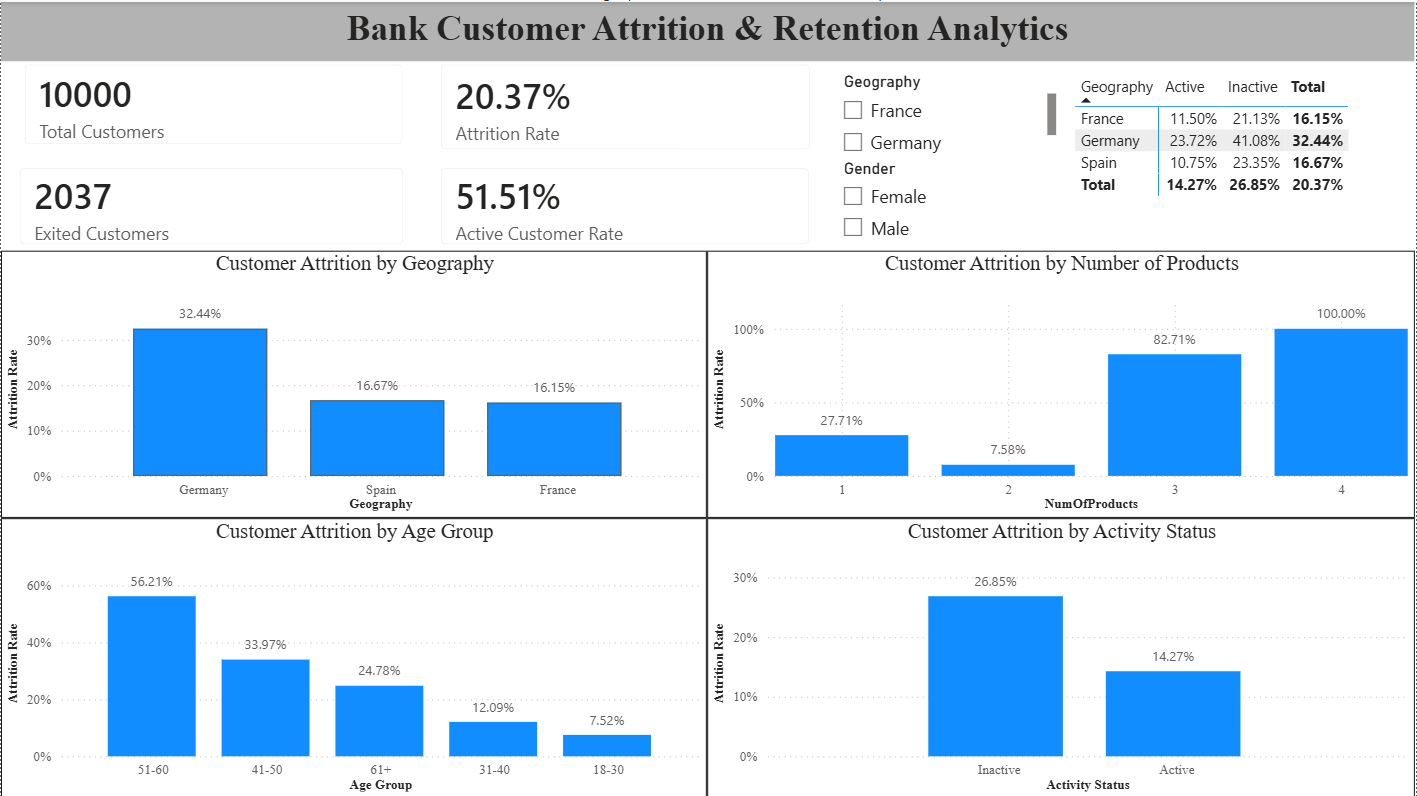

Layout of this report page (visuals, bound fields, positions):
{"tool":"powerbi","page":{"name":"Page 1","canvas":[1280,720],"ordinal":0},"visuals":[{"type":"cardVisual","fields":{"Data":["bank_customer_analysis.Total Customers"]},"box":[5,40,376.7,106.7],"z":0},{"type":"cardVisual","fields":{"Data":["bank_customer_analysis.Attrition Rate"]},"box":[381.4,39.5,368.6,111.6],"z":1},{"type":"cardVisual","fields":{"Data":["bank_customer_analysis.Exited Customers"]},"box":[0,133.7,381.4,103.5],"z":3},{"type":"cardVisual","fields":{"Data":["bank_customer_analysis.Active Customer Rate"]},"box":[381.4,133.7,367.4,103.5],"z":4},{"type":"clusteredColumnChart","title":"Customer Attrition by Geography","fields":{"Category":["bank_customer_analysis.Geography"],"Y":["bank_customer_analysis.Attrition Rate"]},"box":[0,225,638.3,241.7],"z":5},{"type":"clusteredColumnChart","title":"Customer Attrition by Number of Products","fields":{"Category":["bank_customer_analysis.NumOfProducts"],"Y":["bank_customer_analysis.Attrition Rate"]},"box":[638.3,225,640,241.7],"z":6},{"type":"clusteredColumnChart","title":"Customer Attrition by Age Group","fields":{"Category":["bank_customer_analysis.Age Group"],"Y":["bank_customer_analysis.Attrition Rate"]},"box":[0,466.7,638.3,253.3],"z":7},{"type":"clusteredColumnChart","title":"Customer Attrition by Activity Status","fields":{"Category":["bank_customer_analysis.Activity Status"],"Y":["bank_customer_analysis.Attrition Rate"]},"box":[638.3,466.7,640,253.3],"z":8},{"type":"pivotTable","fields":{"Rows":["bank_customer_analysis.Geography"],"Columns":["bank_customer_analysis.Activity Status"],"Values":["bank_customer_analysis.Attrition Rate"]},"box":[958.8,52,320,171.9],"z":9},{"type":"slicer","fields":{"Values":["bank_customer_analysis.Geography"]},"box":[749.6,58.8,210,86.7],"z":10},{"type":"slicer","fields":{"Values":["bank_customer_analysis.Gender"]},"box":[750,137.2,210.5,87.2],"z":11},{"type":"textbox","box":[0,0,1278.3,53.3],"z":12}]}

Visuals, with their boxes in screenshot pixels (x1, y1, x2, y2), scaled from the page's 1280x720 canvas onto the 1417x796 screenshot:
cardVisual - bank_customer_analysis.Total Customers: {"left": 6, "top": 44, "right": 423, "bottom": 162}
cardVisual - bank_customer_analysis.Attrition Rate: {"left": 422, "top": 44, "right": 830, "bottom": 167}
cardVisual - bank_customer_analysis.Exited Customers: {"left": 0, "top": 148, "right": 422, "bottom": 262}
cardVisual - bank_customer_analysis.Active Customer Rate: {"left": 422, "top": 148, "right": 829, "bottom": 262}
"Customer Attrition by Geography" clusteredColumnChart: {"left": 0, "top": 249, "right": 707, "bottom": 516}
"Customer Attrition by Number of Products" clusteredColumnChart: {"left": 707, "top": 249, "right": 1415, "bottom": 516}
"Customer Attrition by Age Group" clusteredColumnChart: {"left": 0, "top": 516, "right": 707, "bottom": 795}
"Customer Attrition by Activity Status" clusteredColumnChart: {"left": 707, "top": 516, "right": 1415, "bottom": 795}
pivotTable - bank_customer_analysis.Geography x bank_customer_analysis.Activity Status: {"left": 1061, "top": 57, "right": 1416, "bottom": 248}
slicer - bank_customer_analysis.Geography: {"left": 830, "top": 65, "right": 1062, "bottom": 161}
slicer - bank_customer_analysis.Gender: {"left": 830, "top": 152, "right": 1063, "bottom": 248}
textbox: {"left": 0, "top": 0, "right": 1415, "bottom": 59}
